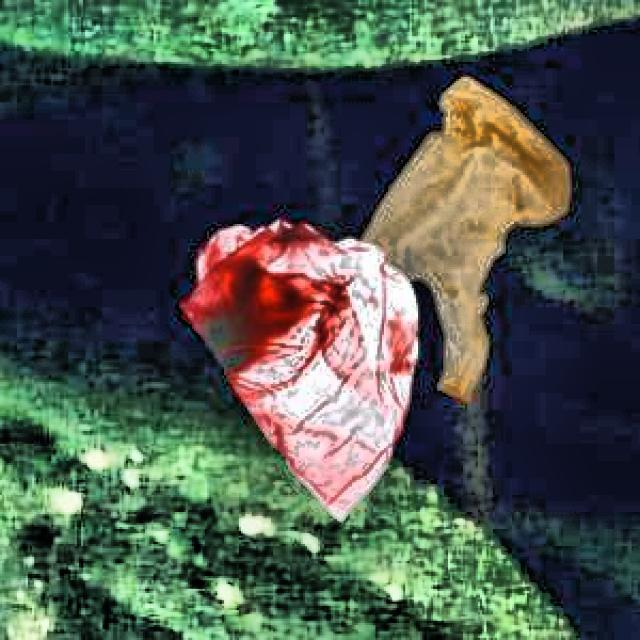Plastic: (300, 71, 586, 418), (168, 206, 432, 520)
